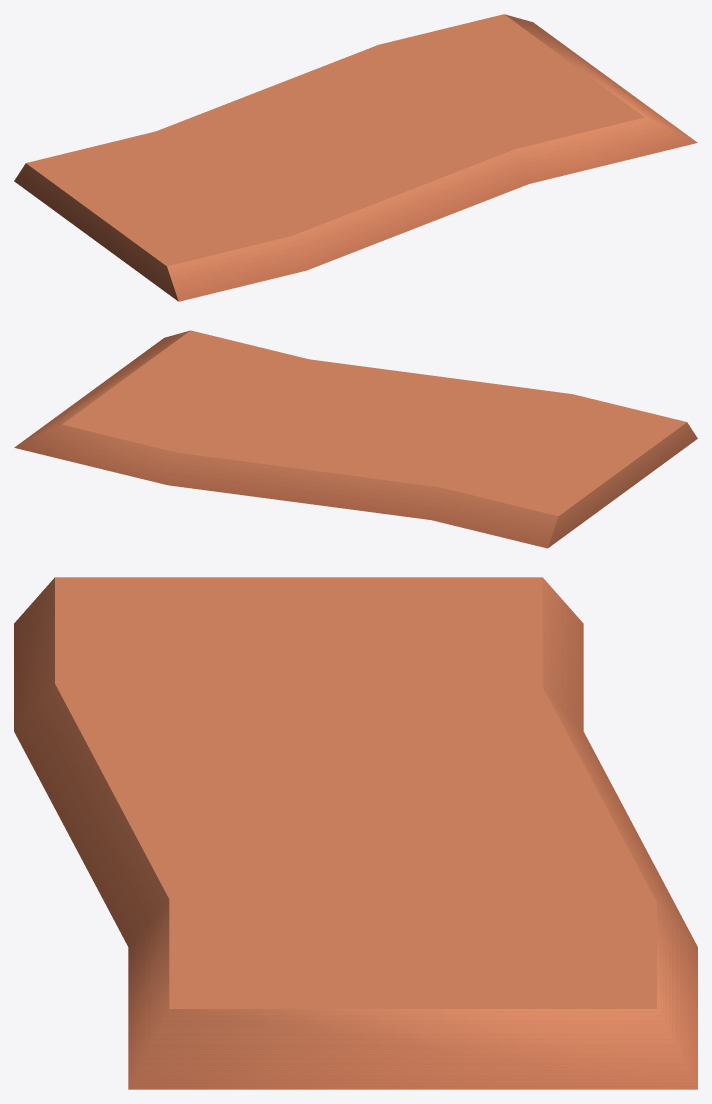
File: path-end.fbx
The picture shows the model from 3 angles, top to bottom: view 1: azimuth 30°, elevation 25°; view 2: azimuth 150°, elevation 25°; view 3: azimuth 270°, elevation 25°; orthographic projection. The views are drawn at different scales.
Visible parts, largest first — view 1: path_end; view 2: path_end; view 3: path_end.
Part boxes in pixels (x1=…): path_end: x1=14, y1=14, x2=697, y2=301; path_end: x1=14, y1=330, x2=697, y2=548; path_end: x1=14, y1=577, x2=697, y2=1089.
Size of the model in its own units: 54 by 2.5 by 33.5.
1 material, 1 textured.
